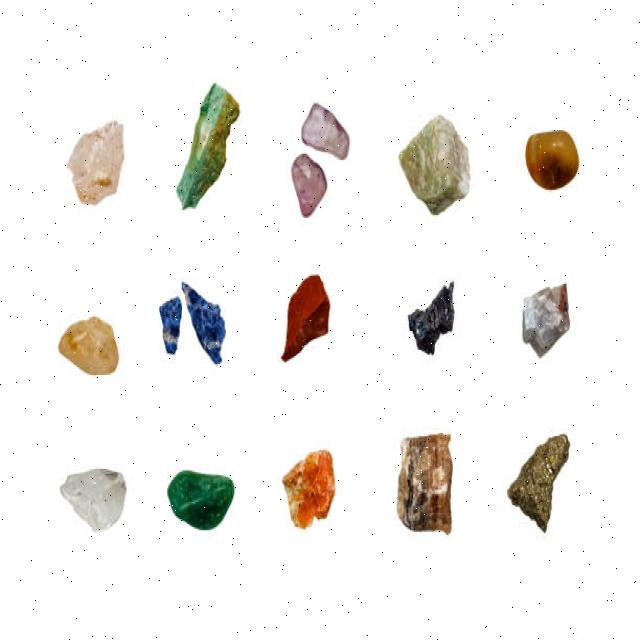Metamorphic: (174, 80, 242, 215), (395, 426, 460, 554), (158, 282, 235, 386), (286, 99, 352, 216), (511, 424, 576, 536), (62, 113, 130, 220), (399, 120, 475, 213), (164, 466, 241, 544), (276, 273, 341, 365), (278, 450, 344, 540), (60, 318, 132, 394), (62, 456, 132, 532), (523, 125, 584, 201), (522, 282, 578, 362), (410, 284, 465, 362)
